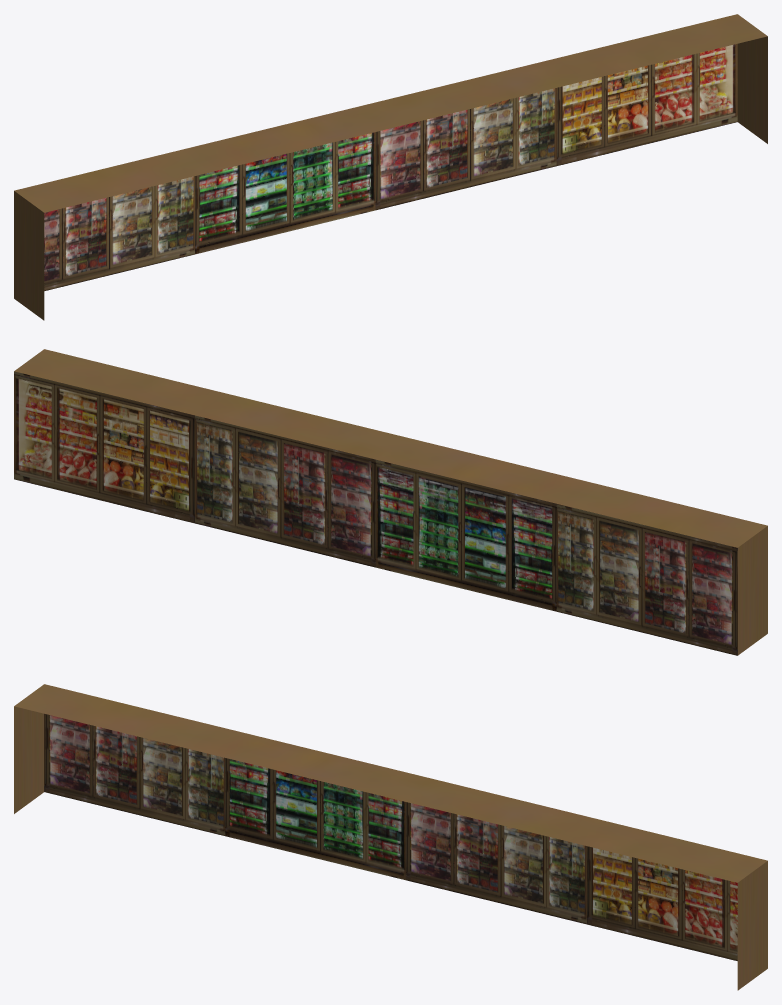
The model's file is SM_Congel_01.FBX.
3 views of the same model, one above another, from view 1: azimuth 30°, elevation 25°; view 2: azimuth 150°, elevation 25°; view 3: azimuth 330°, elevation 25° (orthographic).
Parts seen in each view (by area): view 1: SM_Congel_01; view 2: SM_Congel_01; view 3: SM_Congel_01.
Part boxes in pixels (box(x1,y1,x2,y2)): SM_Congel_01: box(14, 14, 767, 320); SM_Congel_01: box(14, 349, 767, 655); SM_Congel_01: box(14, 684, 767, 990).
Size of the model in its own units: 1497 by 213 by 109.
